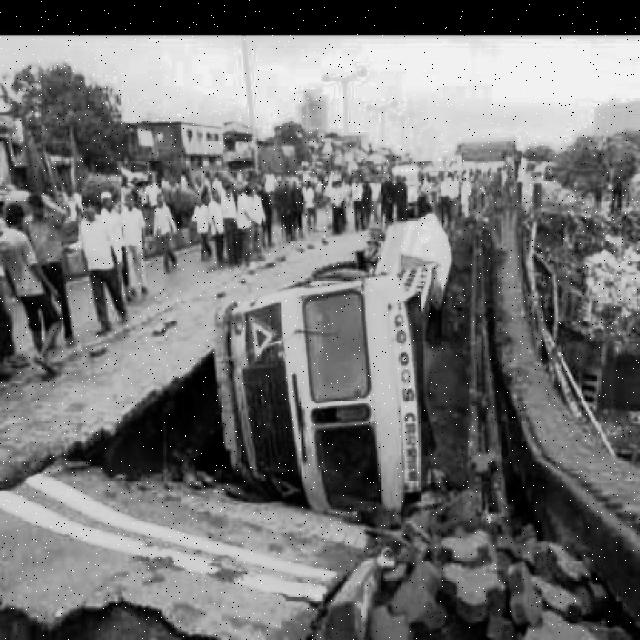HCV: (205, 238, 444, 532)
